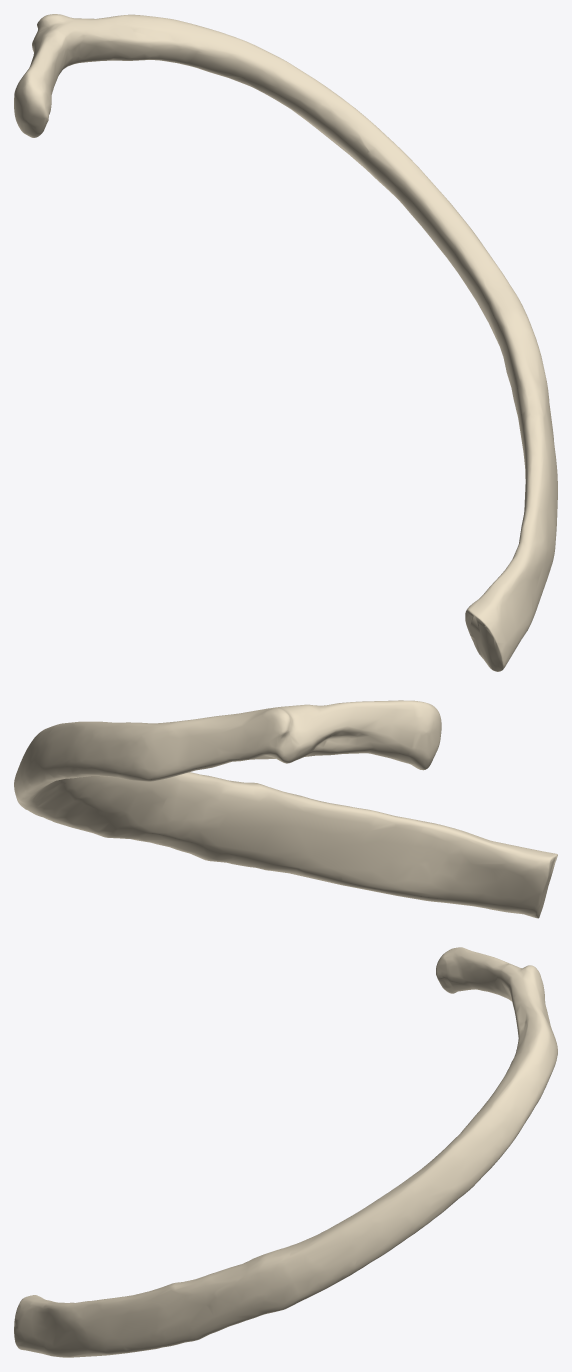
The model's file is fourth-rib-l.glb.
3 renders of one model, top to bottom at view 1: azimuth 30°, elevation 25°; view 2: azimuth 150°, elevation 25°; view 3: azimuth 270°, elevation 25°, orthographic. The views are drawn at different scales.
Parts seen in each view (by area): view 1: Fourth rib.l; view 2: Fourth rib.l; view 3: Fourth rib.l.
Boxes of the visible parts, x1,y1,x2,y2 form: Fourth rib.l: [14, 14, 557, 671]; Fourth rib.l: [14, 700, 557, 918]; Fourth rib.l: [14, 947, 557, 1357].
Size of the model in its own units: 0.1096 by 0.1171 by 0.1698.
